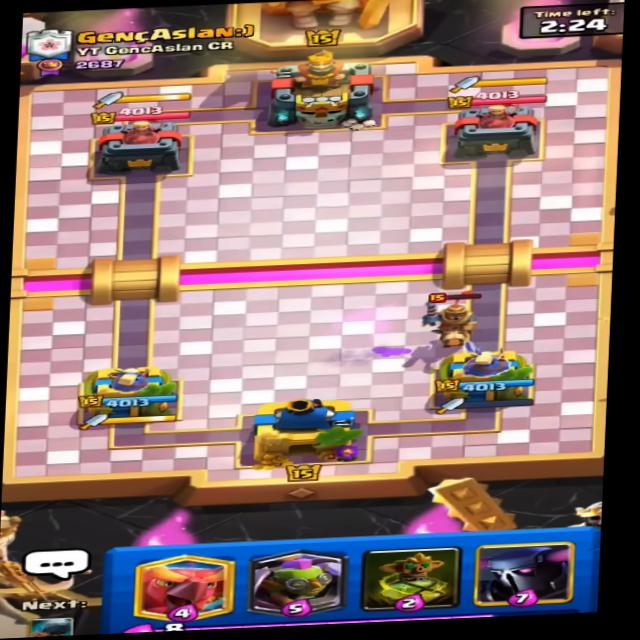prince: (420, 284, 493, 352)
